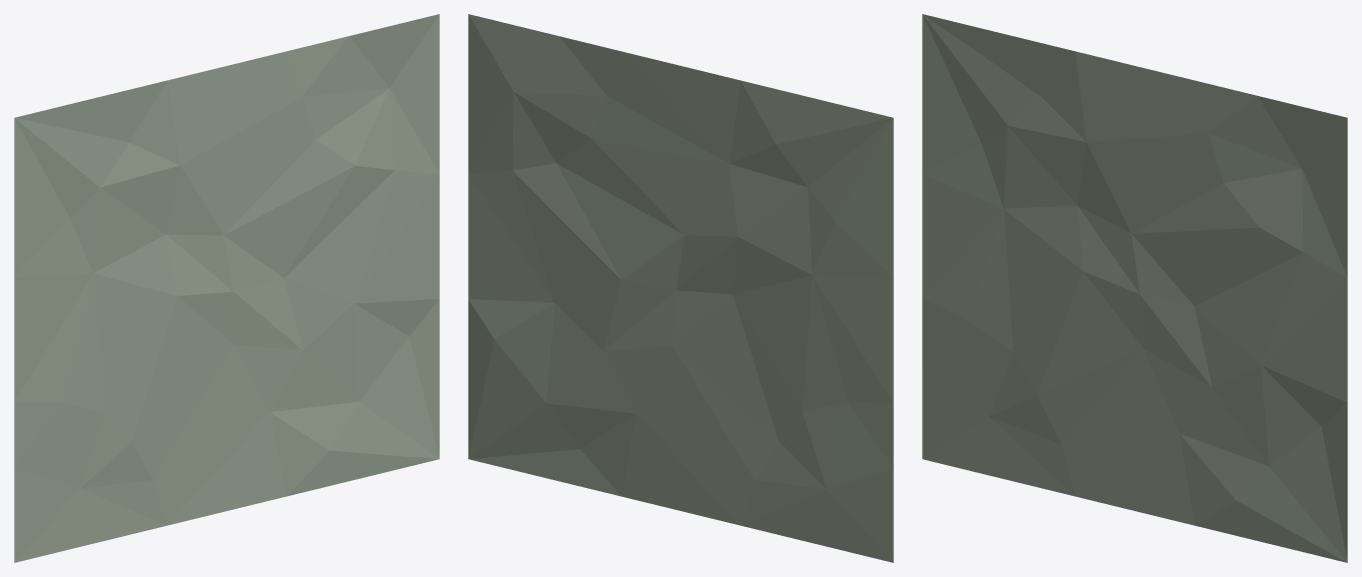
The model's file is Wallpapper_00.fbx.
The picture shows the model from 3 angles, left to right: view 1: azimuth 30°, elevation 25°; view 2: azimuth 150°, elevation 25°; view 3: azimuth 330°, elevation 25°; orthographic projection.
Visible parts, largest first — view 1: Wallpapper_00; view 2: Wallpapper_00; view 3: Wallpapper_00.
Part boxes in pixels (box(x1,y1,x2,y2)): Wallpapper_00: box(14, 14, 439, 562); Wallpapper_00: box(468, 14, 893, 562); Wallpapper_00: box(922, 14, 1347, 562).
Size of the model in its own units: 100 by 100 by 1.74.
Materials: 1 (1 with a texture image).
